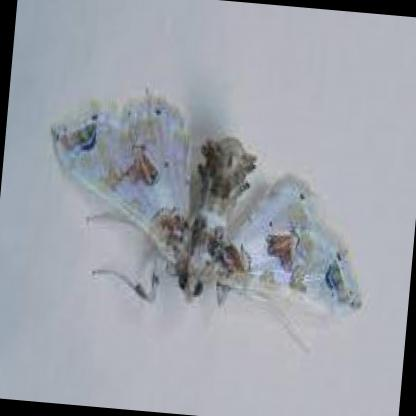leucinodes: (49, 106, 361, 319)
